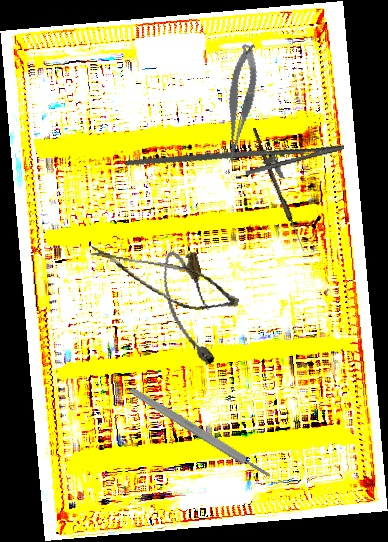Cannula: (157, 246, 222, 371)
Micro Scissor: (81, 245, 244, 316), (211, 41, 267, 166)
Needle Holder: (124, 117, 348, 210)
Scalpel Handle: (126, 384, 274, 482)
Surgical Spoon: (249, 127, 308, 253)
